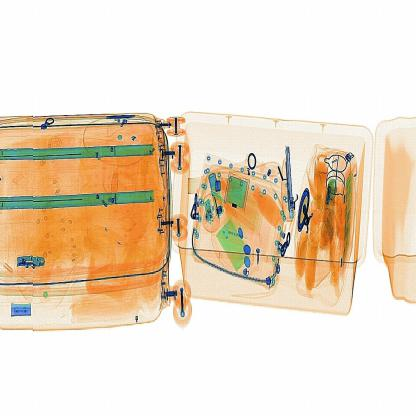pliers: (282, 143, 297, 223)
